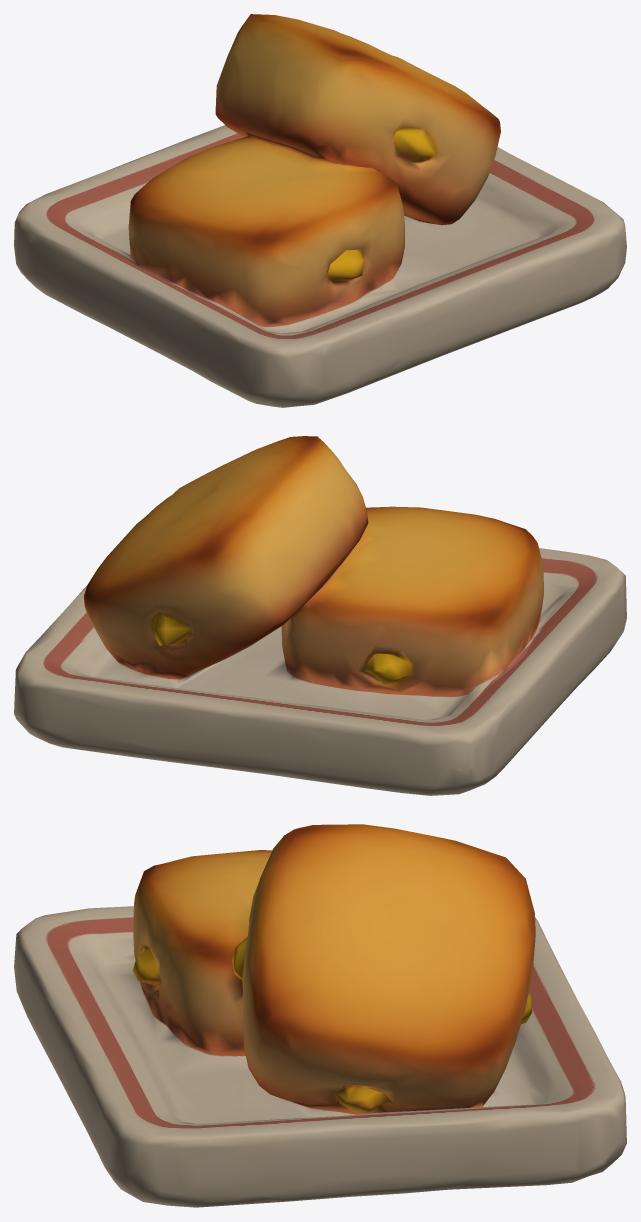
Rendered from TW_사물_s3_food_tier2_pineapplecake.glb.
3 renders of one model, top to bottom at view 1: azimuth 30°, elevation 25°; view 2: azimuth 150°, elevation 25°; view 3: azimuth 270°, elevation 25°, orthographic. The views are drawn at different scales.
Parts seen in each view (by area): view 1: tripo_node_90165686-4f20-4b01-86be-ca5bb69634f3; view 2: tripo_node_90165686-4f20-4b01-86be-ca5bb69634f3; view 3: tripo_node_90165686-4f20-4b01-86be-ca5bb69634f3.
Part boxes in pixels (x1,y1,x2,y2): tripo_node_90165686-4f20-4b01-86be-ca5bb69634f3: (14, 14, 626, 407); tripo_node_90165686-4f20-4b01-86be-ca5bb69634f3: (14, 436, 626, 795); tripo_node_90165686-4f20-4b01-86be-ca5bb69634f3: (14, 824, 626, 1207).
Bounding box in the file's own units: 0.9984 × 0.4866 × 1.
Materials: 1 (1 with a texture image).
